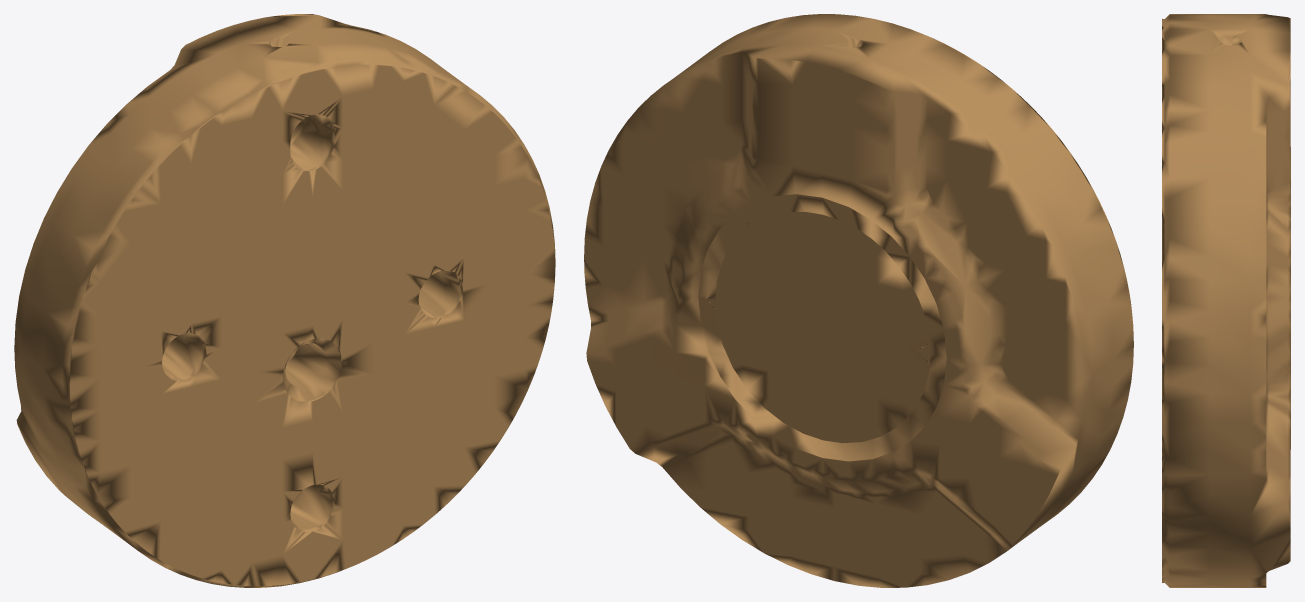
The model's file is upper_parts4.obj.
The picture shows the model from 3 angles, left to right: view 1: azimuth 30°, elevation 25°; view 2: azimuth 150°, elevation 25°; view 3: azimuth 270°, elevation 25°; orthographic projection.
Size of the model in its own units: 57.9 by 57.9 by 12.98.
